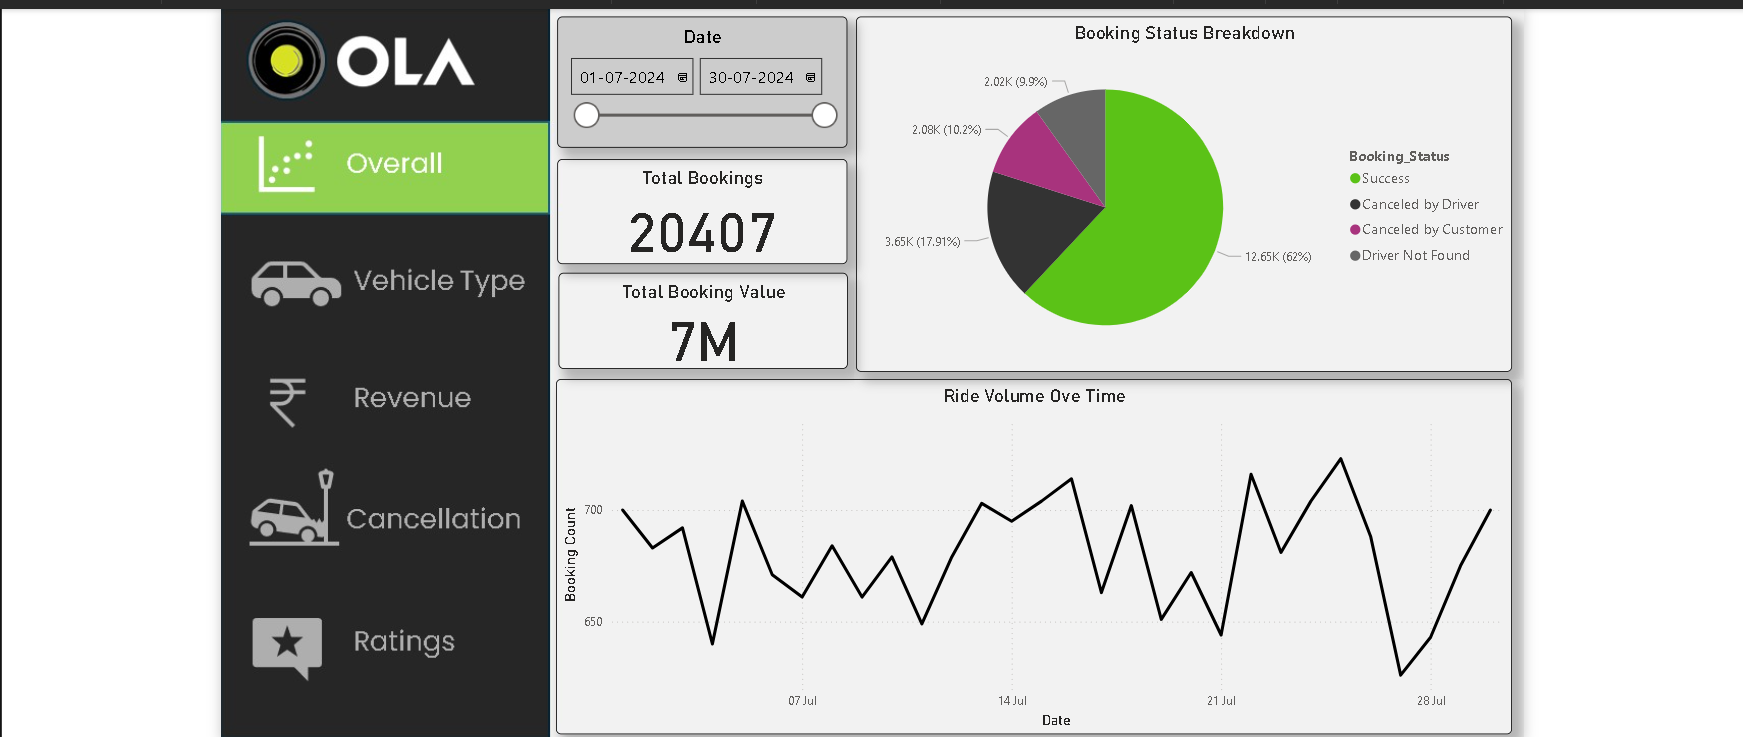

The dashboard page shown, as its layout file describes it:
{"tool":"powerbi","page":{"name":"Overall","canvas":[1280,720],"ordinal":0},"visuals":[{"type":"actionButton","box":[0,216,325.2,90.8],"z":0},{"type":"actionButton","box":[0,216,325.2,90.8],"z":1000},{"type":"actionButton","box":[0,337.4,325.2,90.8],"z":2000},{"type":"actionButton","box":[0,445.4,325.2,90.8],"z":3000},{"type":"actionButton","box":[0,582.8,325.2,90.8],"z":4000},{"type":"lineChart","title":"Ride Volume Ove Time","fields":{"Y":["CountNonNull(July.Booking_ID)"],"Category":["July.Date"]},"box":[328.8,363.2,938.7,348.5],"z":5000},{"type":"pieChart","title":"Booking Status Breakdown","fields":{"Category":["July.Booking_Status"],"Y":["CountNonNull(July.Booking_Status)"]},"box":[623.3,7.4,644.2,348.5],"z":6000},{"type":"slicer","title":"Date","fields":{"Values":["July.Date"]},"box":[330.1,7.4,284.7,128.8],"z":7000},{"type":"card","title":"Total Bookings","fields":{"Values":["CountNonNull(July.Booking_ID)"]},"box":[330.1,147.2,284.7,103.1],"z":8000},{"type":"card","title":"Total Booking Value","fields":{"Values":["Sum(July.Booking_Value)"]},"box":[330.7,259.3,284,94.7],"z":9000}]}

Visuals, with their boxes on the page's 1280x720 design canvas (x1, y1, x2, y2). These are canvas units, not pixel positions in the 1743x737 screenshot, which may show the page scaled, cropped or inside an application window:
actionButton: x1=0, y1=216, x2=325, y2=307
actionButton: x1=0, y1=216, x2=325, y2=307
actionButton: x1=0, y1=337, x2=325, y2=428
actionButton: x1=0, y1=445, x2=325, y2=536
actionButton: x1=0, y1=583, x2=325, y2=674
"Ride Volume Ove Time" lineChart: x1=329, y1=363, x2=1268, y2=712
"Booking Status Breakdown" pieChart: x1=623, y1=7, x2=1268, y2=356
"Date" slicer: x1=330, y1=7, x2=615, y2=136
"Total Bookings" card: x1=330, y1=147, x2=615, y2=250
"Total Booking Value" card: x1=331, y1=259, x2=615, y2=354
